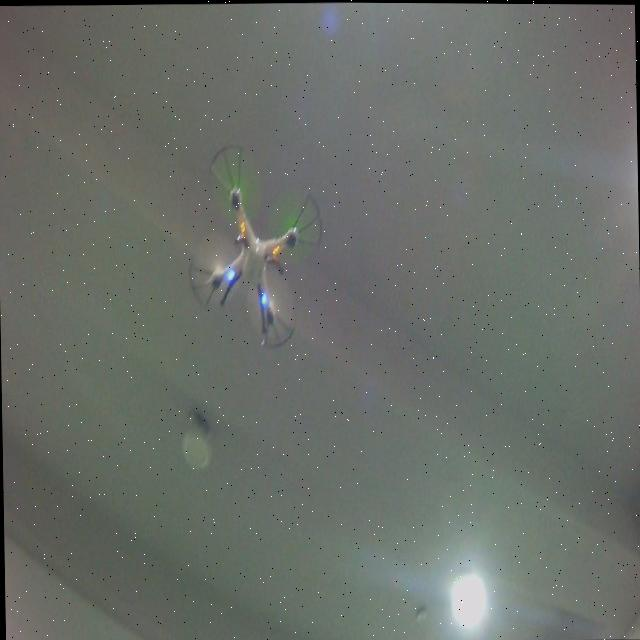drone: (184, 140, 326, 350)
